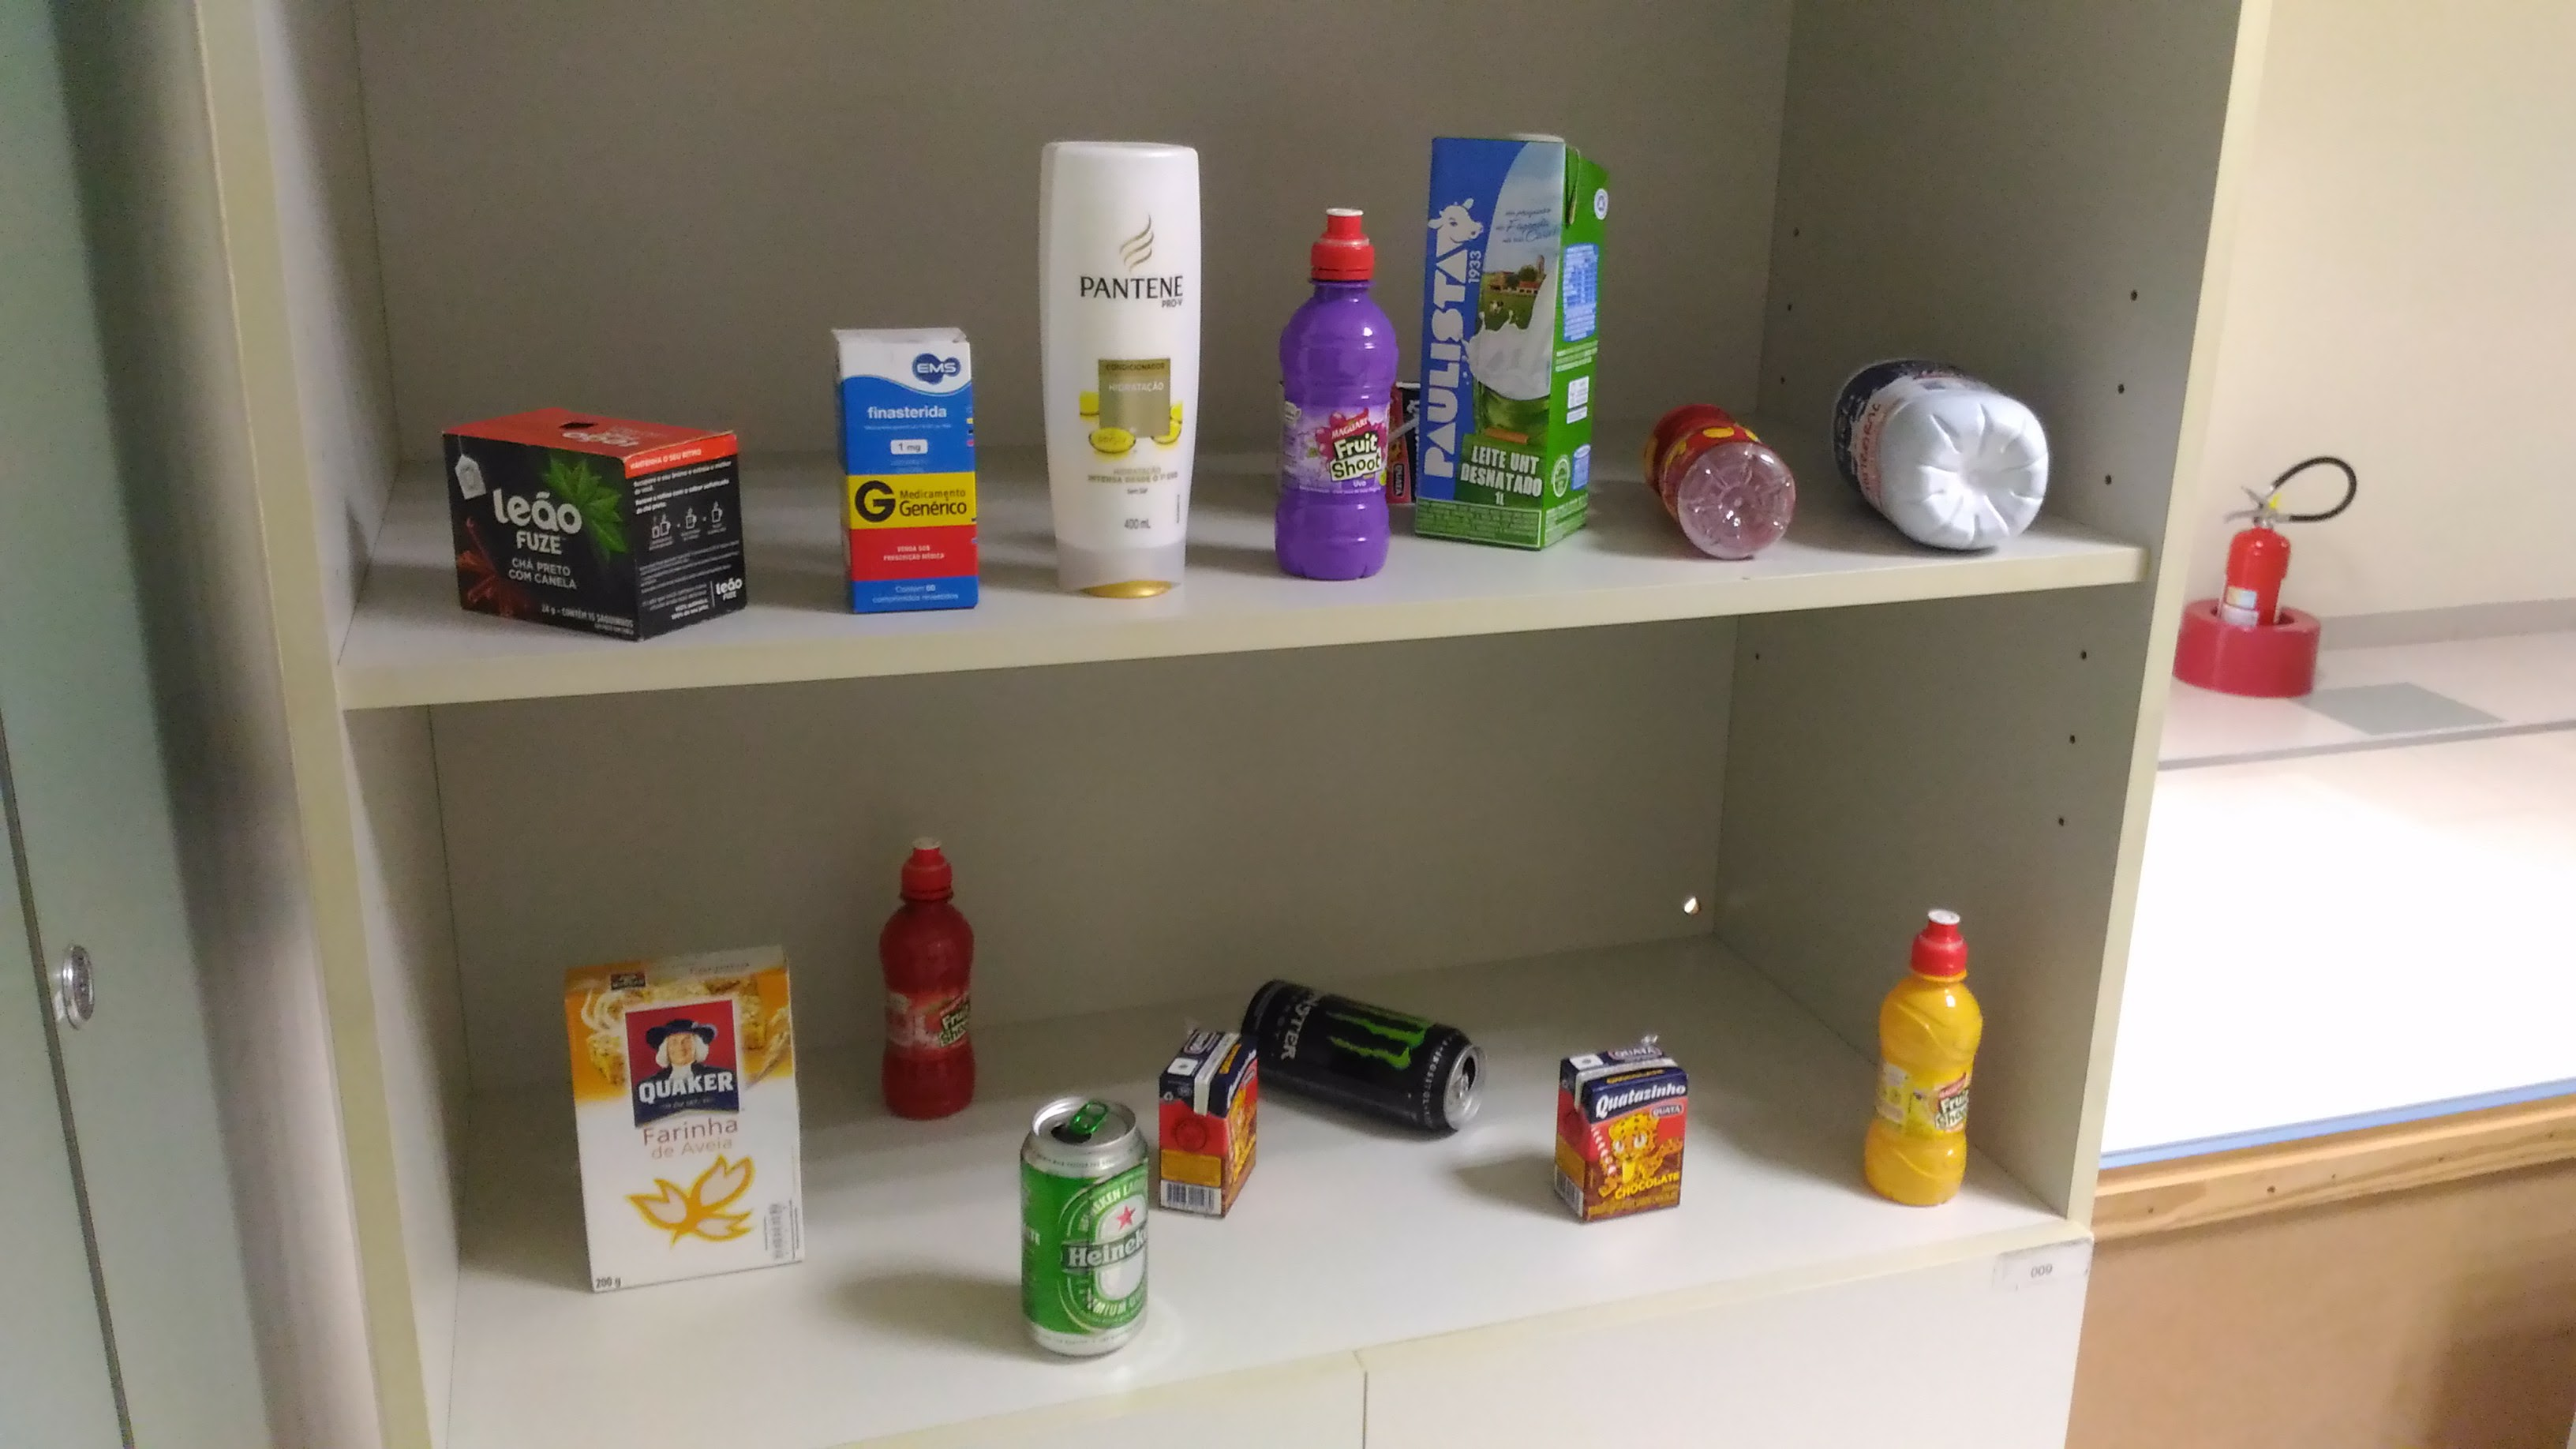cereal: (552, 926, 820, 1305)
chocolate_milk: (1542, 1028, 1696, 1241), (1155, 1005, 1258, 1237)
heineken: (1009, 1076, 1151, 1364)
iron_man: (1629, 377, 1803, 594)
medicine: (816, 306, 998, 622)
milk_bottle: (1818, 334, 2083, 571)
milk_box: (1420, 117, 1605, 555)
monster: (1242, 965, 1487, 1151)
purple_juice: (1274, 196, 1404, 582)
red_juice: (871, 831, 986, 1135)
shampoo: (1029, 105, 1222, 618)
tea_box: (429, 385, 761, 650)
yellow_juice: (1854, 890, 2000, 1222)
